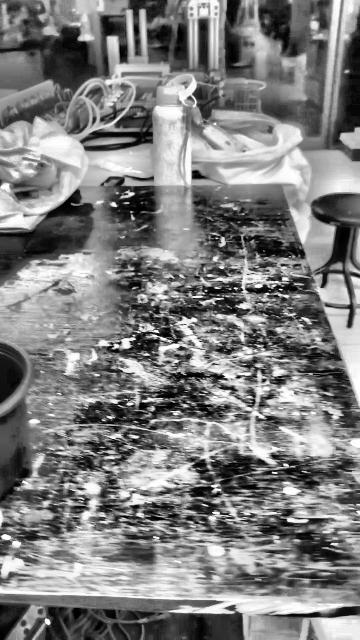pot: (0, 342, 31, 500)
